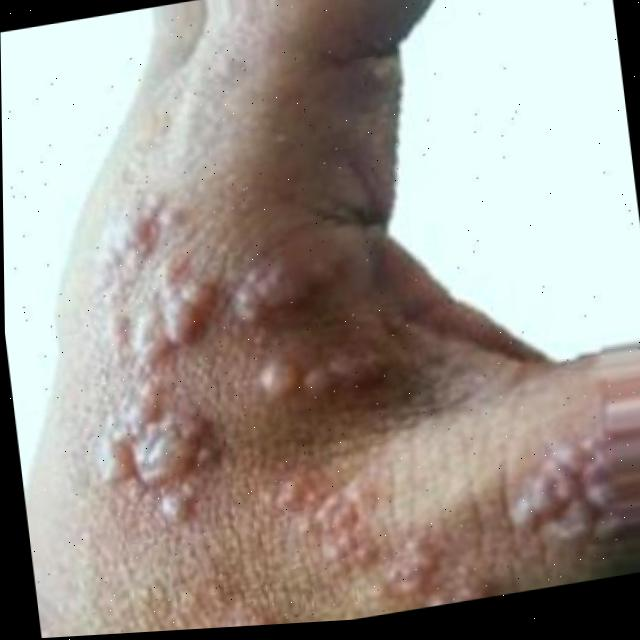Shingles: (58, 135, 621, 637)
